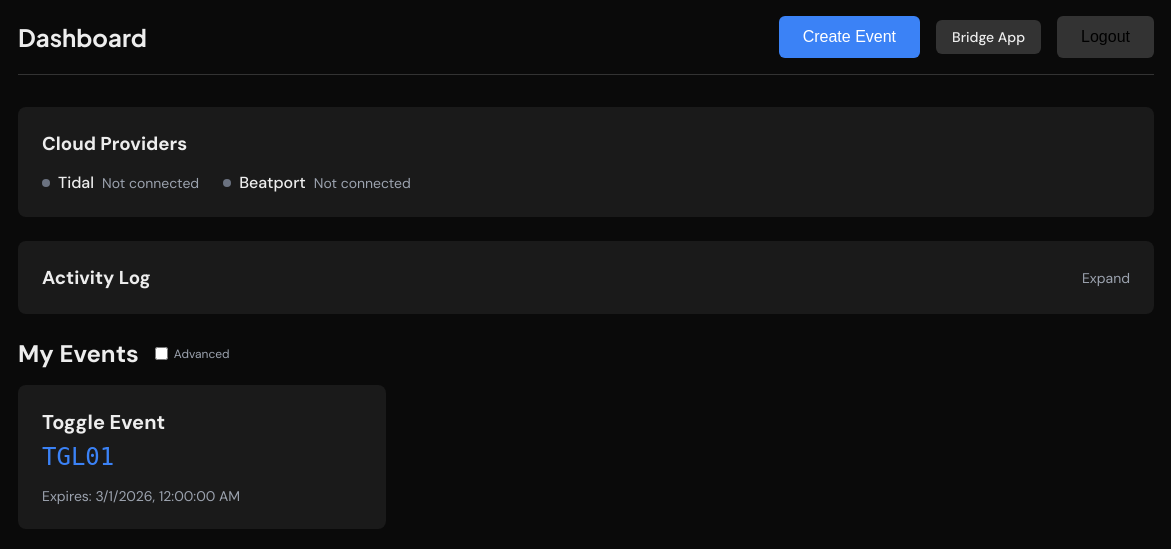
Test: DashboardPage › deselects an already selected event when toggled
Expected: the heading "Toggle Event" is shown, [42,409,165,435]
Click the checkbox labelled "Advanced".
click(161, 354)  # box [155,347,168,360]
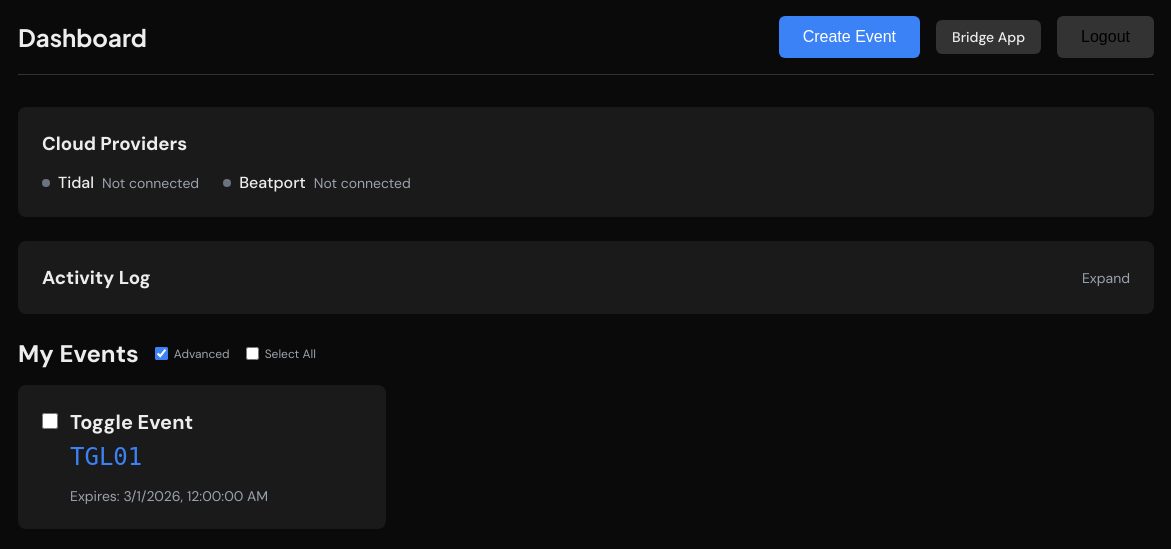
Select the event
Click the checkbox named "Select event TGL01".
click(50, 421)  # box [42,413,58,429]
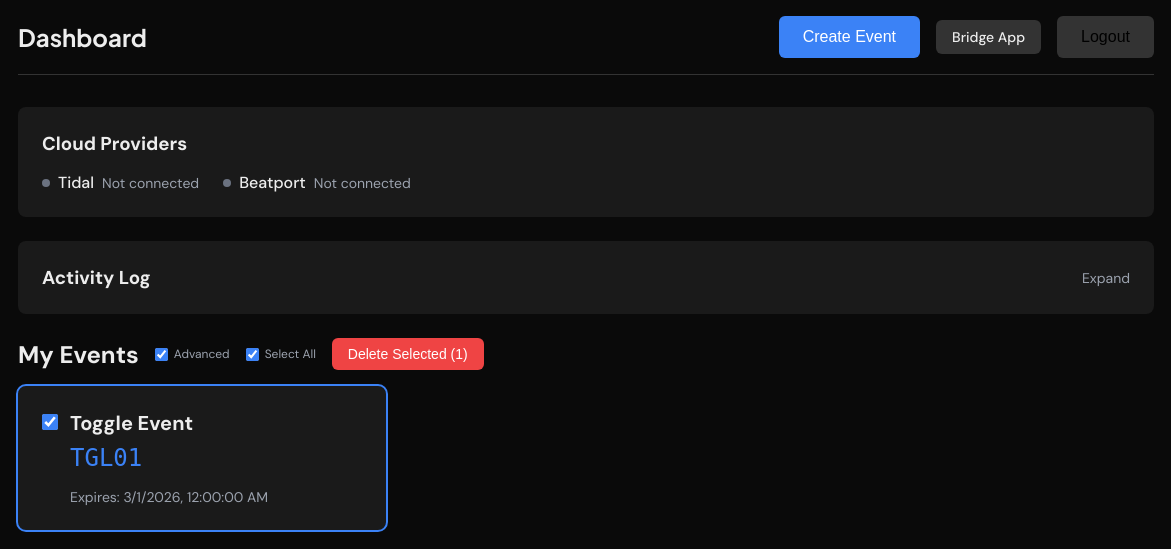
Now the button "Delete Selected (1)" is shown, box [332,338,484,370]
Deselect event
Click the checkbox named "Select event TGL01".
click(50, 422)  # box [42,414,58,430]
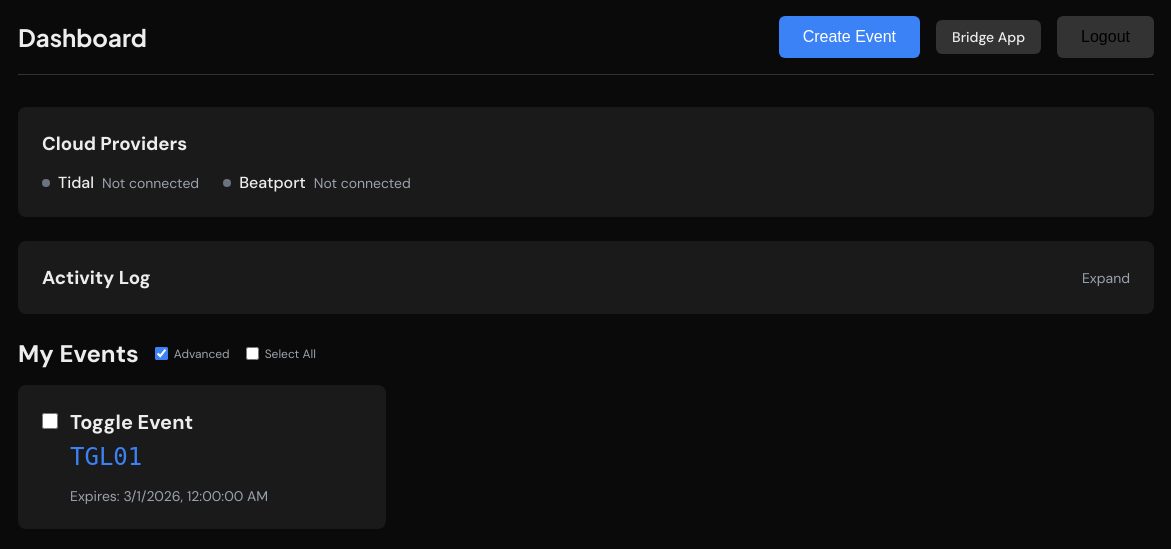
Now the button "Delete Selected" is gone
